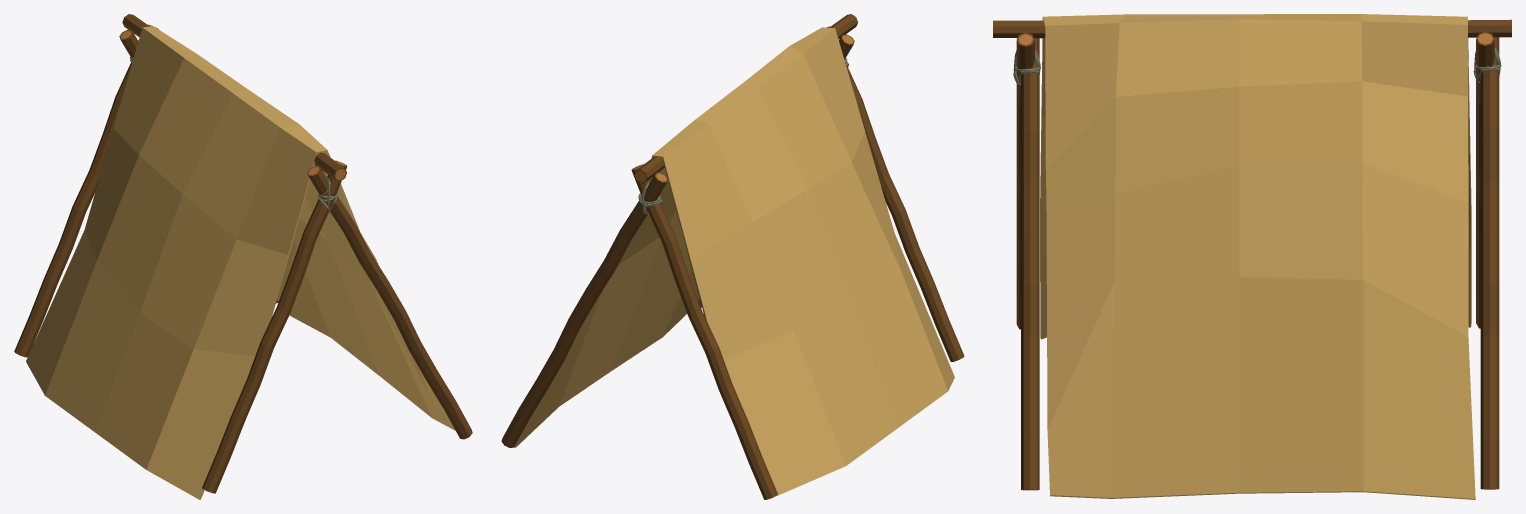
The model's file is SM_Tent_001.fbx.
The picture shows the model from 3 angles, left to right: view 1: azimuth 30°, elevation 25°; view 2: azimuth 150°, elevation 25°; view 3: azimuth 270°, elevation 25°; orthographic projection. The views are drawn at different scales.
Visible parts, largest first — view 1: Tent; view 2: Tent; view 3: Tent.
Part boxes in pixels (x1,y1,x2,y2): Tent: (14, 14, 472, 499); Tent: (501, 14, 964, 499); Tent: (993, 14, 1511, 499).
Bounding box in the file's own units: 235 × 251 × 294.
